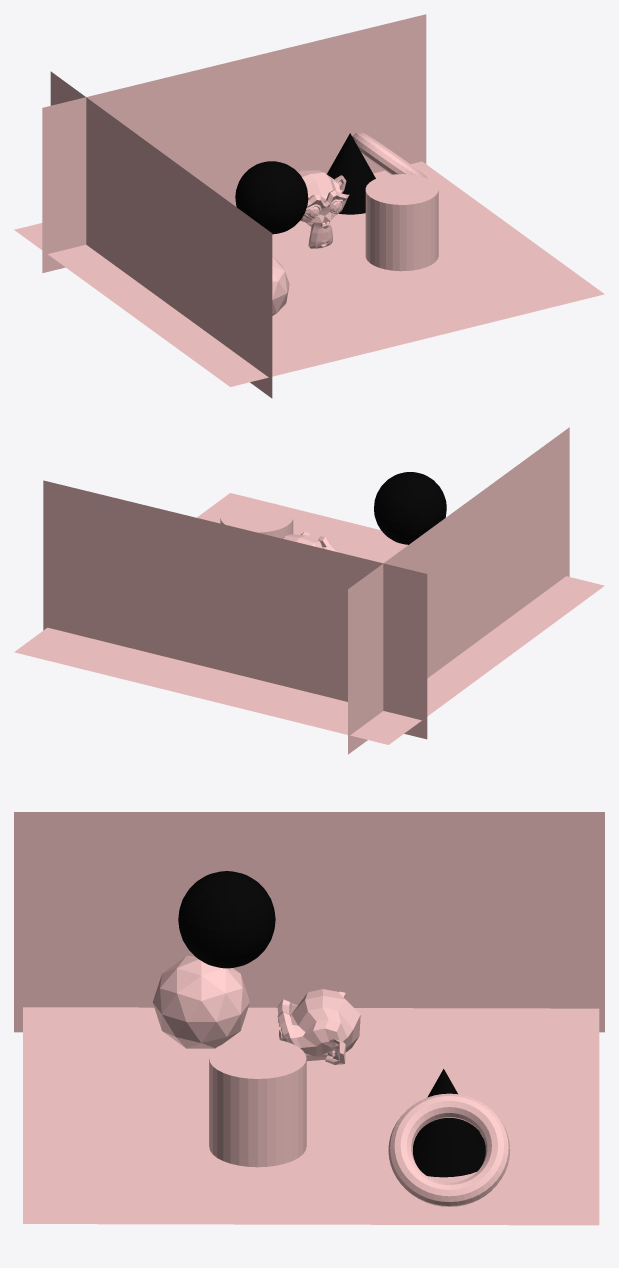
The picture shows the model from 3 angles, top to bottom: view 1: azimuth 30°, elevation 25°; view 2: azimuth 150°, elevation 25°; view 3: azimuth 270°, elevation 25°; orthographic projection. The views are drawn at different scales.
Visible parts, largest first — view 1: Plane.001, Plane, Plane.002, Cylinder, Sphere_Sphere.002, Suzanne, Cone, Torus, Icosphere; view 2: Plane.001, Plane.002, Plane, Sphere_Sphere.002, Cylinder, Suzanne; view 3: Plane.002, Plane, Cylinder, Sphere_Sphere.002, Torus, Icosphere, Suzanne, Cone.
Part boxes in pixels (bbox=[...]): Plane.001: bbox=[42, 14, 426, 272]; Plane: bbox=[14, 161, 604, 386]; Plane.002: bbox=[50, 71, 272, 398]; Cylinder: bbox=[365, 174, 438, 271]; Sphere_Sphere.002: bbox=[235, 161, 308, 234]; Suzanne: bbox=[298, 170, 349, 248]; Cone: bbox=[327, 133, 375, 214]; Torus: bbox=[352, 132, 427, 178]; Icosphere: bbox=[272, 256, 289, 315]; Plane.001: bbox=[43, 480, 427, 739]; Plane.002: bbox=[348, 427, 569, 754]; Plane: bbox=[14, 493, 604, 744]; Sphere_Sphere.002: bbox=[374, 472, 446, 544]; Cylinder: bbox=[220, 501, 293, 538]; Suzanne: bbox=[282, 532, 336, 551]; Plane.002: bbox=[14, 812, 604, 1032]; Plane: bbox=[23, 1007, 599, 1225]; Cylinder: bbox=[209, 1038, 306, 1167]; Sphere_Sphere.002: bbox=[178, 871, 275, 968]; Torus: bbox=[388, 1093, 510, 1206]; Icosphere: bbox=[152, 956, 249, 1048]; Suzanne: bbox=[277, 989, 360, 1064]; Cone: bbox=[413, 1069, 485, 1177].
Size of the model in its own units: 12.14 by 4.99 by 12.14.
